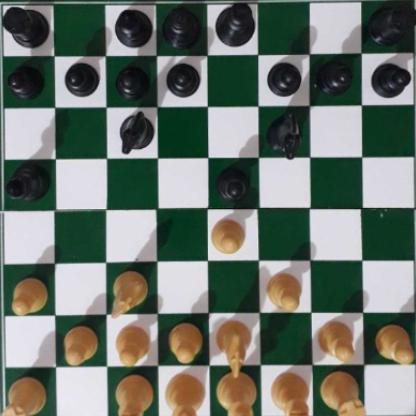black-bishop: (2, 162, 52, 201), (112, 6, 153, 45)
black-king: (214, 0, 257, 49)
black-knight: (267, 110, 302, 157), (118, 110, 152, 151)
black-pawn: (371, 59, 409, 98), (215, 163, 251, 201), (165, 57, 198, 97), (7, 61, 43, 97), (267, 57, 301, 95), (318, 58, 352, 95), (115, 62, 148, 99), (64, 60, 97, 97)
black-queen: (161, 2, 202, 45)
black-rook: (0, 2, 49, 47), (369, 0, 416, 44)
white-bishop: (112, 371, 156, 416), (269, 372, 311, 416)
white-king: (215, 369, 259, 416)
white-knight: (214, 318, 253, 378), (108, 267, 147, 315)
white-pawn: (316, 317, 357, 360), (374, 321, 414, 361), (9, 275, 49, 314), (166, 320, 202, 361), (265, 270, 301, 311), (60, 323, 97, 362), (114, 324, 150, 364), (209, 217, 244, 253)
white-queen: (163, 372, 205, 416)
white-rook: (319, 374, 366, 416), (0, 374, 46, 416)
